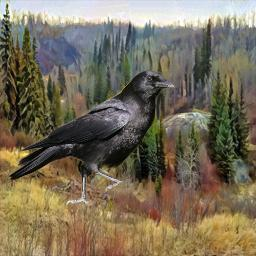Crow: (9, 69, 180, 208)
